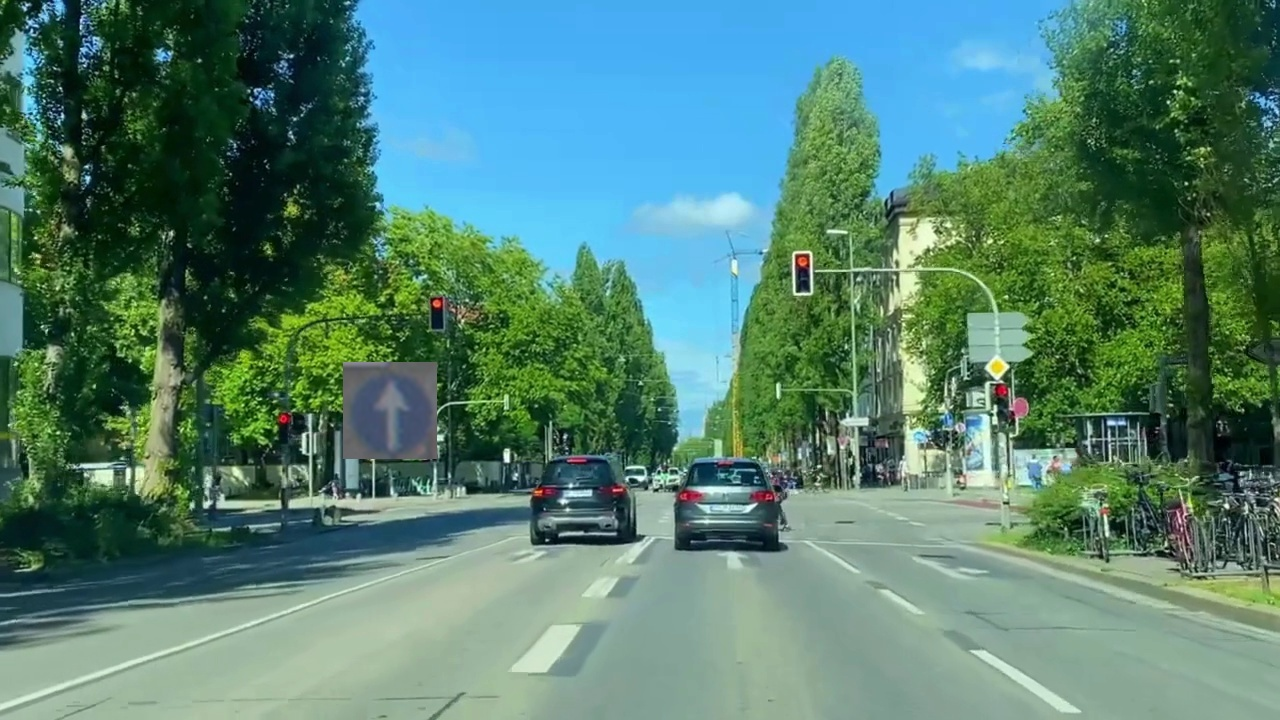Ahead only: (343, 362, 437, 459)
